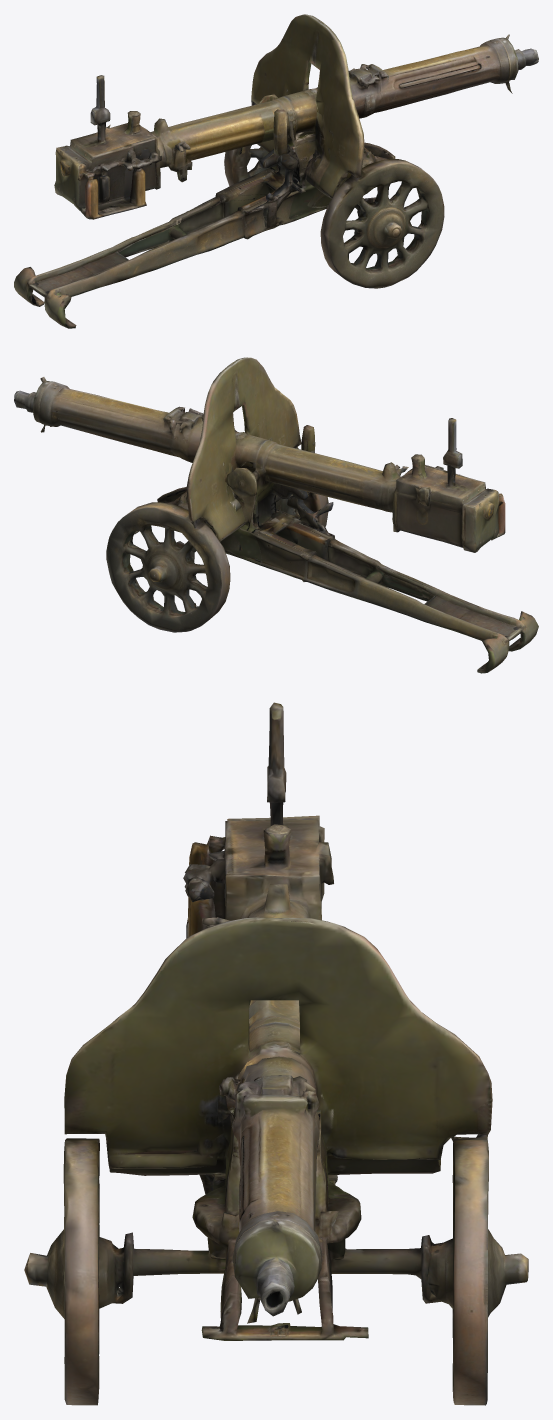
File: maxim_mg.glb
3 views of the same model, one above another, from view 1: azimuth 30°, elevation 25°; view 2: azimuth 150°, elevation 25°; view 3: azimuth 270°, elevation 25° (orthographic). The views are drawn at different scales.
Size of the model in its own units: 2 by 0.88 by 0.873.
Materials: 1 (1 with a texture image).
